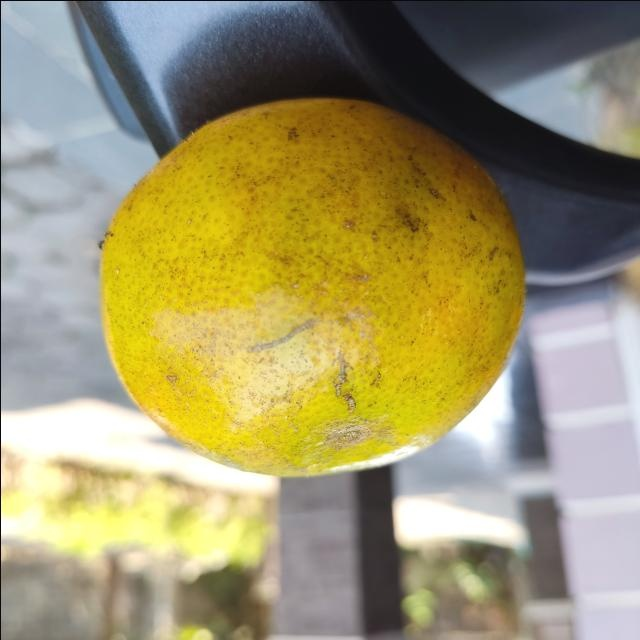agrume: (96, 96, 526, 480)
